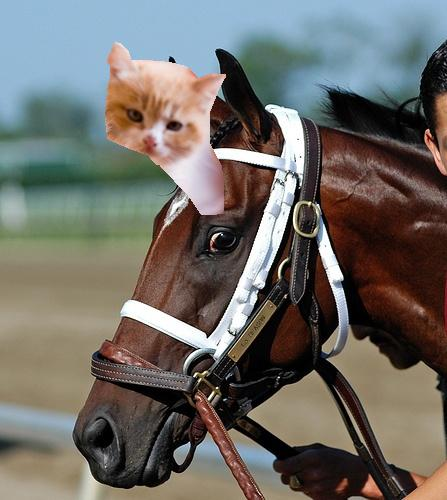tampered: (106, 42, 226, 215)
